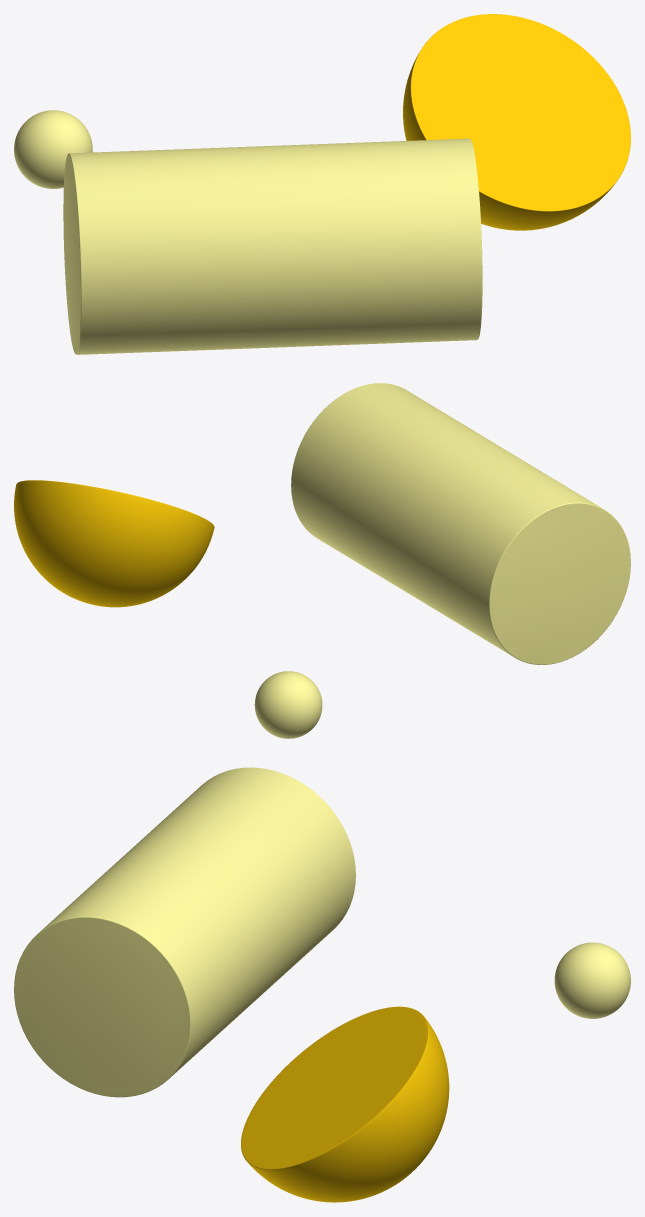
3 renders of one model, top to bottom at view 1: azimuth 30°, elevation 25°; view 2: azimuth 150°, elevation 25°; view 3: azimuth 270°, elevation 25°, orthographic. The views are drawn at different scales.
Visible parts, largest first — view 1: Extrude_CYLINDER_L_01_1, HALF_SPHERE_03, SPHERE_01; view 2: Extrude_CYLINDER_L_01_1, HALF_SPHERE_03, SPHERE_01; view 3: Extrude_CYLINDER_L_01_1, HALF_SPHERE_03, SPHERE_01.
Part boxes in pixels (x1,y1,x2,y2): Extrude_CYLINDER_L_01_1: (63,138,482,354); HALF_SPHERE_03: (403,14,630,230); SPHERE_01: (14,110,92,188); Extrude_CYLINDER_L_01_1: (291,383,630,664); HALF_SPHERE_03: (14,480,214,607); SPHERE_01: (254,671,322,738); Extrude_CYLINDER_L_01_1: (14,767,355,1097); HALF_SPHERE_03: (241,1006,449,1202); SPHERE_01: (554,942,630,1018).
Size of what is drawn, in the model's own units: 10.94 by 3.36 by 9.69.
